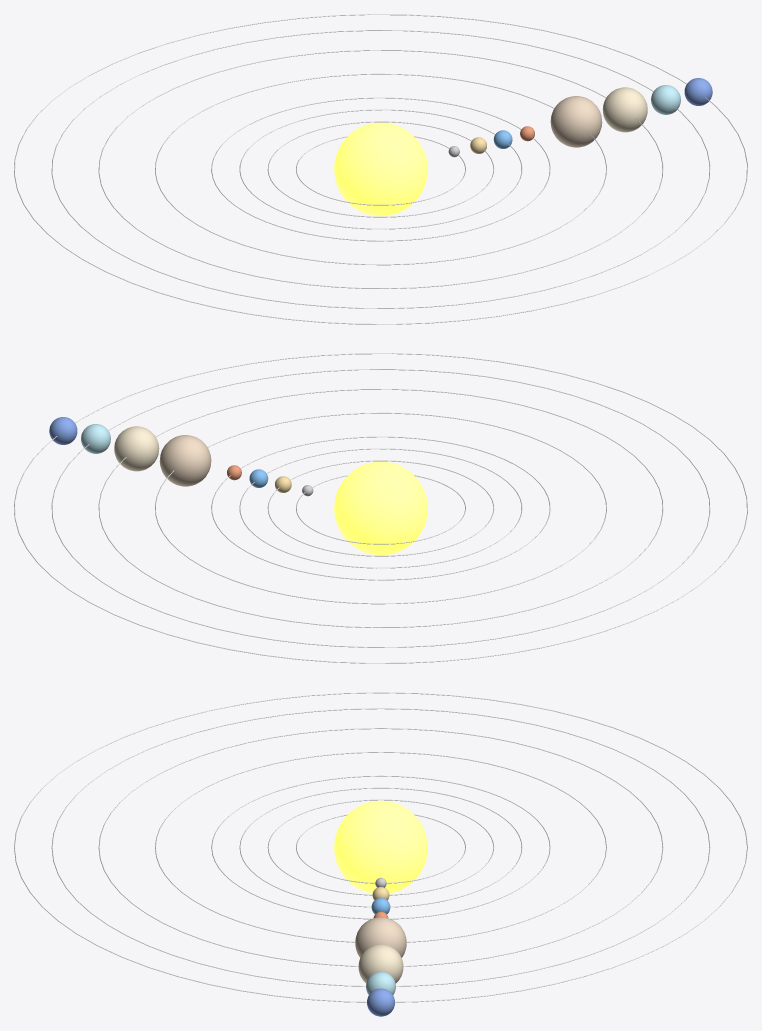
File: solar-system.glb
3 renders of one model, top to bottom at view 1: azimuth 30°, elevation 25°; view 2: azimuth 150°, elevation 25°; view 3: azimuth 270°, elevation 25°, orthographic.
Visible parts, largest first — view 1: Sun, Orbit_Neptune, Jupiter, Orbit_Uranus, Orbit_Saturn, Saturn, Orbit_Jupiter, Orbit_Mars, Orbit_Earth, Orbit_Venus, Uranus, Neptune; view 2: Sun, Orbit_Neptune, Jupiter, Orbit_Uranus, Orbit_Saturn, Saturn, Orbit_Jupiter, Orbit_Mars, Orbit_Earth, Orbit_Venus, Uranus, Neptune; view 3: Sun, Orbit_Neptune, Orbit_Uranus, Orbit_Saturn, Jupiter, Orbit_Jupiter, Saturn, Orbit_Mars, Orbit_Earth, Orbit_Venus, Neptune.
Part boxes in pixels (x1,y1,x2,y2): Sun: (334, 122, 427, 216); Orbit_Neptune: (14, 14, 747, 324); Jupiter: (550, 96, 602, 147); Orbit_Uranus: (51, 30, 710, 308); Orbit_Saturn: (98, 50, 663, 288); Saturn: (602, 87, 647, 132); Orbit_Jupiter: (155, 73, 606, 265); Orbit_Mars: (211, 97, 550, 241); Orbit_Earth: (239, 109, 522, 229); Orbit_Venus: (267, 121, 494, 217); Uranus: (651, 85, 680, 114); Neptune: (684, 78, 712, 105); Sun: (334, 461, 427, 555); Orbit_Neptune: (14, 353, 747, 663); Jupiter: (159, 435, 211, 486); Orbit_Uranus: (51, 369, 710, 647); Orbit_Saturn: (98, 389, 663, 627); Saturn: (114, 426, 159, 471); Orbit_Jupiter: (155, 412, 606, 604); Orbit_Mars: (211, 436, 550, 580); Orbit_Earth: (239, 448, 522, 568); Orbit_Venus: (267, 460, 494, 556); Uranus: (81, 424, 110, 453); Neptune: (49, 417, 77, 444); Sun: (334, 800, 427, 893); Orbit_Neptune: (14, 692, 747, 1002); Orbit_Uranus: (51, 708, 710, 986); Orbit_Saturn: (98, 728, 663, 966); Jupiter: (355, 917, 406, 957); Orbit_Jupiter: (155, 752, 606, 942); Saturn: (358, 944, 403, 983); Orbit_Mars: (211, 775, 550, 919); Orbit_Earth: (239, 787, 522, 907); Orbit_Venus: (267, 799, 494, 895); Neptune: (367, 988, 394, 1016).
Size of the model in its own units: 15.91 by 2 by 15.62.
